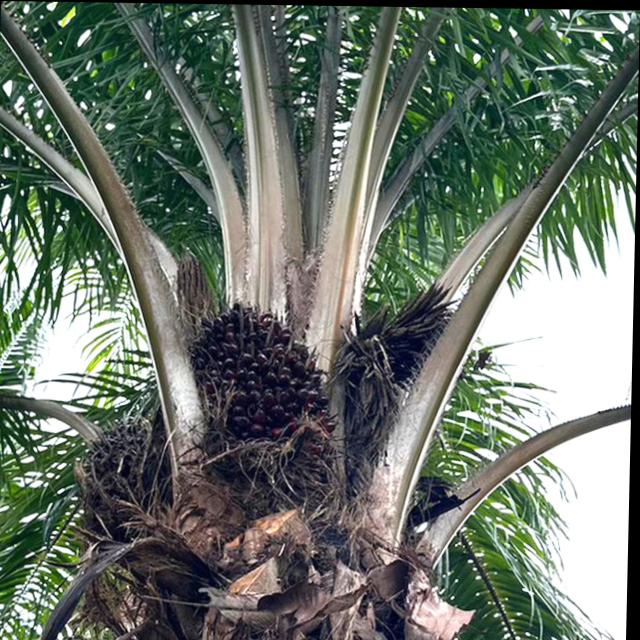almost: (185, 297, 338, 468)
